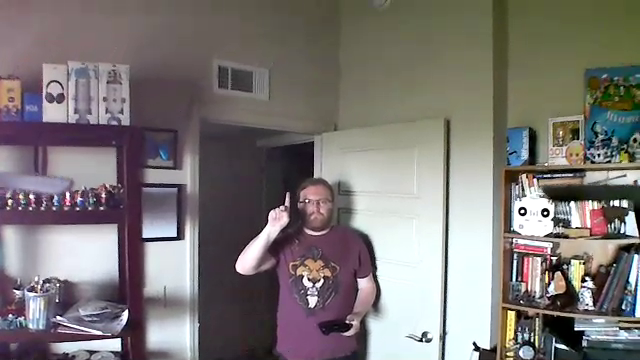up: (266, 188, 294, 226)
